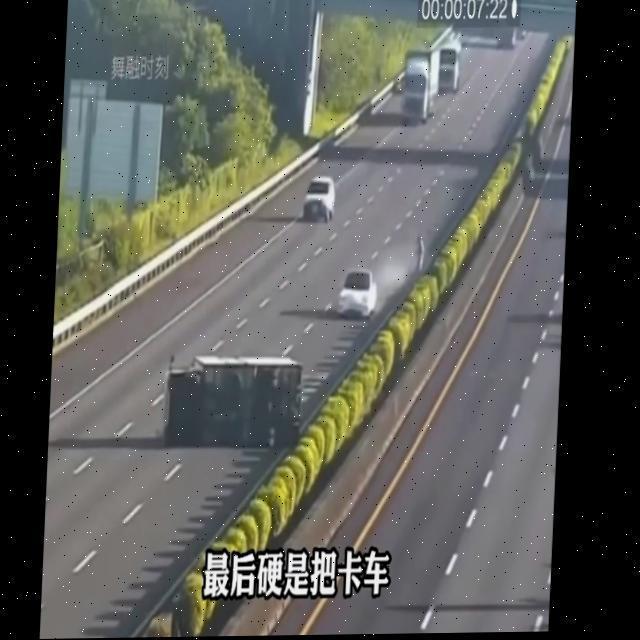normal: (387, 20, 467, 138), (292, 138, 353, 243), (333, 238, 390, 337)
single accident: (133, 317, 333, 468)
